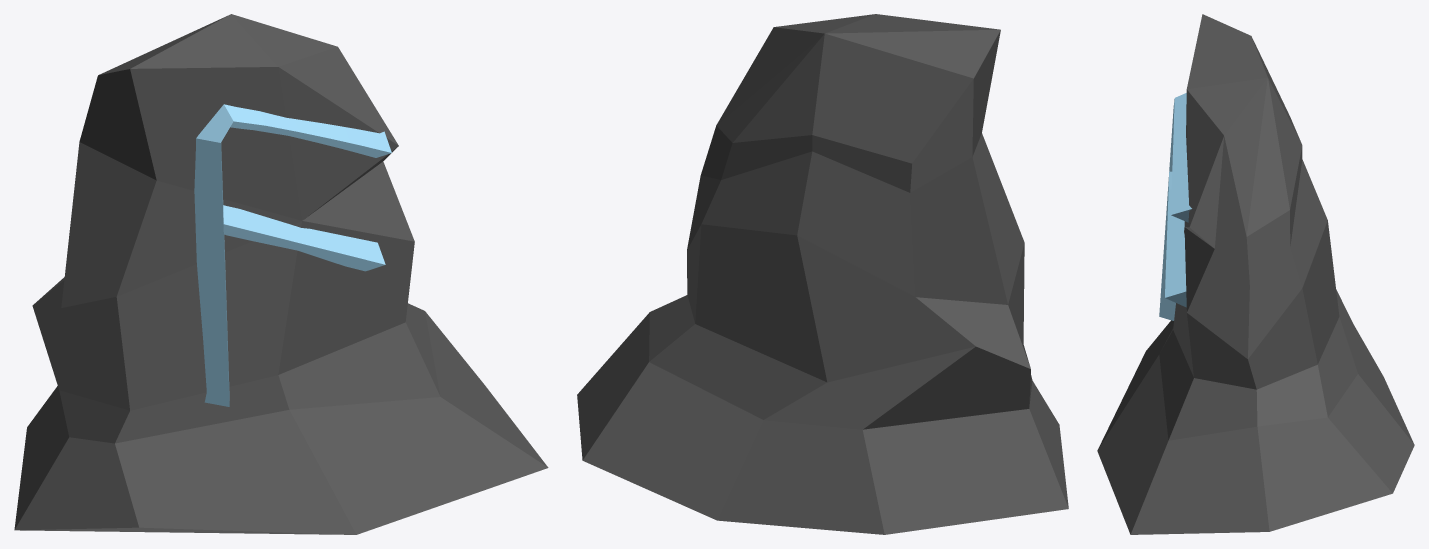
Rendered from Rune_Ansuz.fbx.
The picture shows the model from 3 angles, left to right: view 1: azimuth 30°, elevation 25°; view 2: azimuth 150°, elevation 25°; view 3: azimuth 270°, elevation 25°; orthographic projection. The views are drawn at different scales.
Visible parts, largest first — view 1: Thurisaz; view 2: Thurisaz; view 3: Thurisaz.
Part boxes in pixels (box(x1,y1,x2,y2)): Thurisaz: box(14, 14, 548, 534); Thurisaz: box(577, 14, 1068, 534); Thurisaz: box(1097, 14, 1414, 534).
Size of the model in its own units: 415 by 371 by 287.
